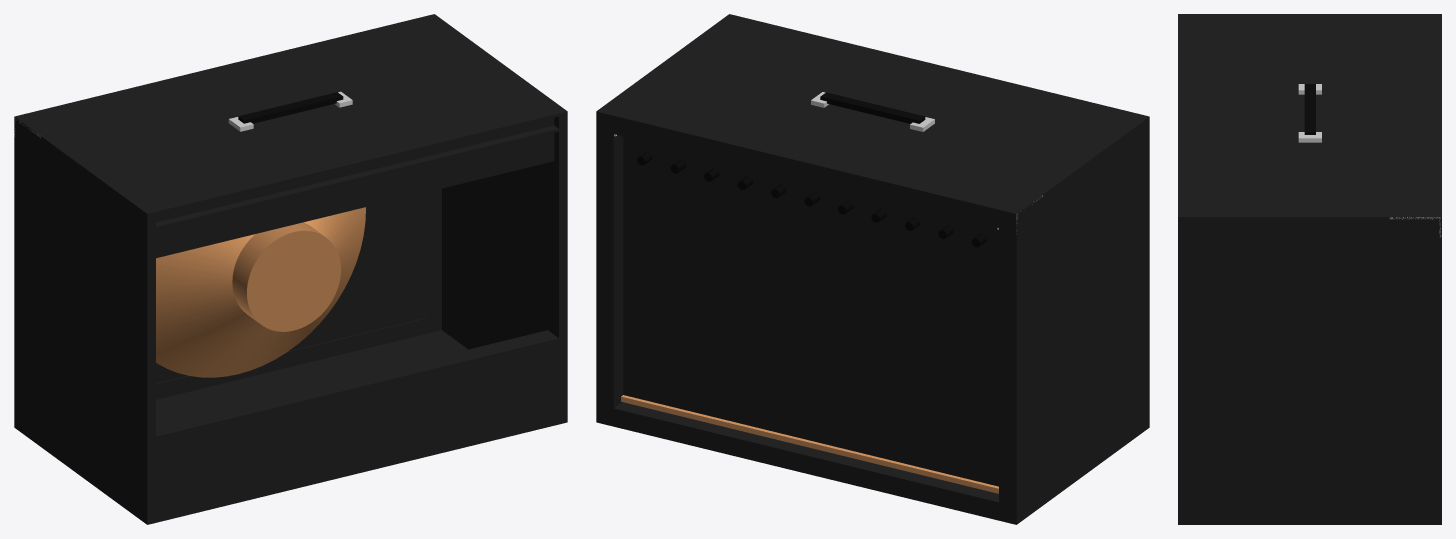
Rendered from guitar_amp__4c520860a87e.glb.
3 renders of one model, left to right at view 1: azimuth 30°, elevation 25°; view 2: azimuth 150°, elevation 25°; view 3: azimuth 270°, elevation 25°, orthographic.
Parts seen in each view (by area): view 1: case, speaker_cone, baffle, magnet, strap; view 2: case, baffle, lower_lip, strap; view 3: case, strap.
Part boxes in pixels (bbox=[...]): case: bbox=[14, 14, 567, 524]; speaker_cone: bbox=[156, 207, 365, 377]; baffle: bbox=[156, 192, 427, 383]; magnet: bbox=[232, 222, 340, 331]; strap: bbox=[238, 92, 343, 123]; case: bbox=[596, 14, 1149, 524]; baffle: bbox=[623, 136, 998, 486]; lower_lip: bbox=[621, 395, 998, 493]; strap: bbox=[820, 92, 925, 123]; case: bbox=[1178, 14, 1441, 524]; strap: bbox=[1304, 84, 1315, 134].
Bounding box in the file's own units: 0.6027 × 0.4364 × 0.3307.
